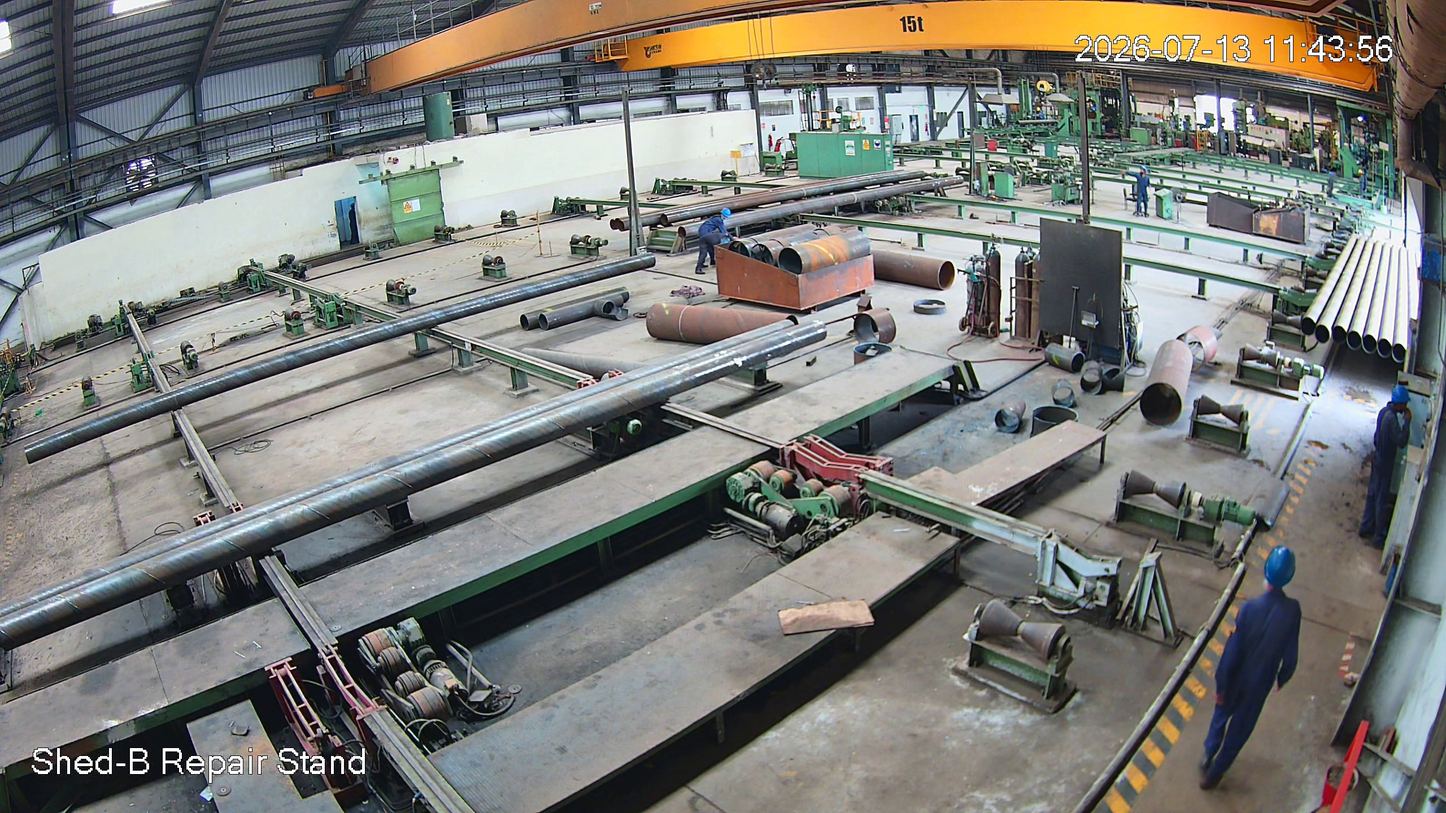Helmet: (1259, 536, 1311, 610), (1388, 386, 1414, 420)
Person: (1200, 545, 1314, 793), (1357, 389, 1416, 542)
